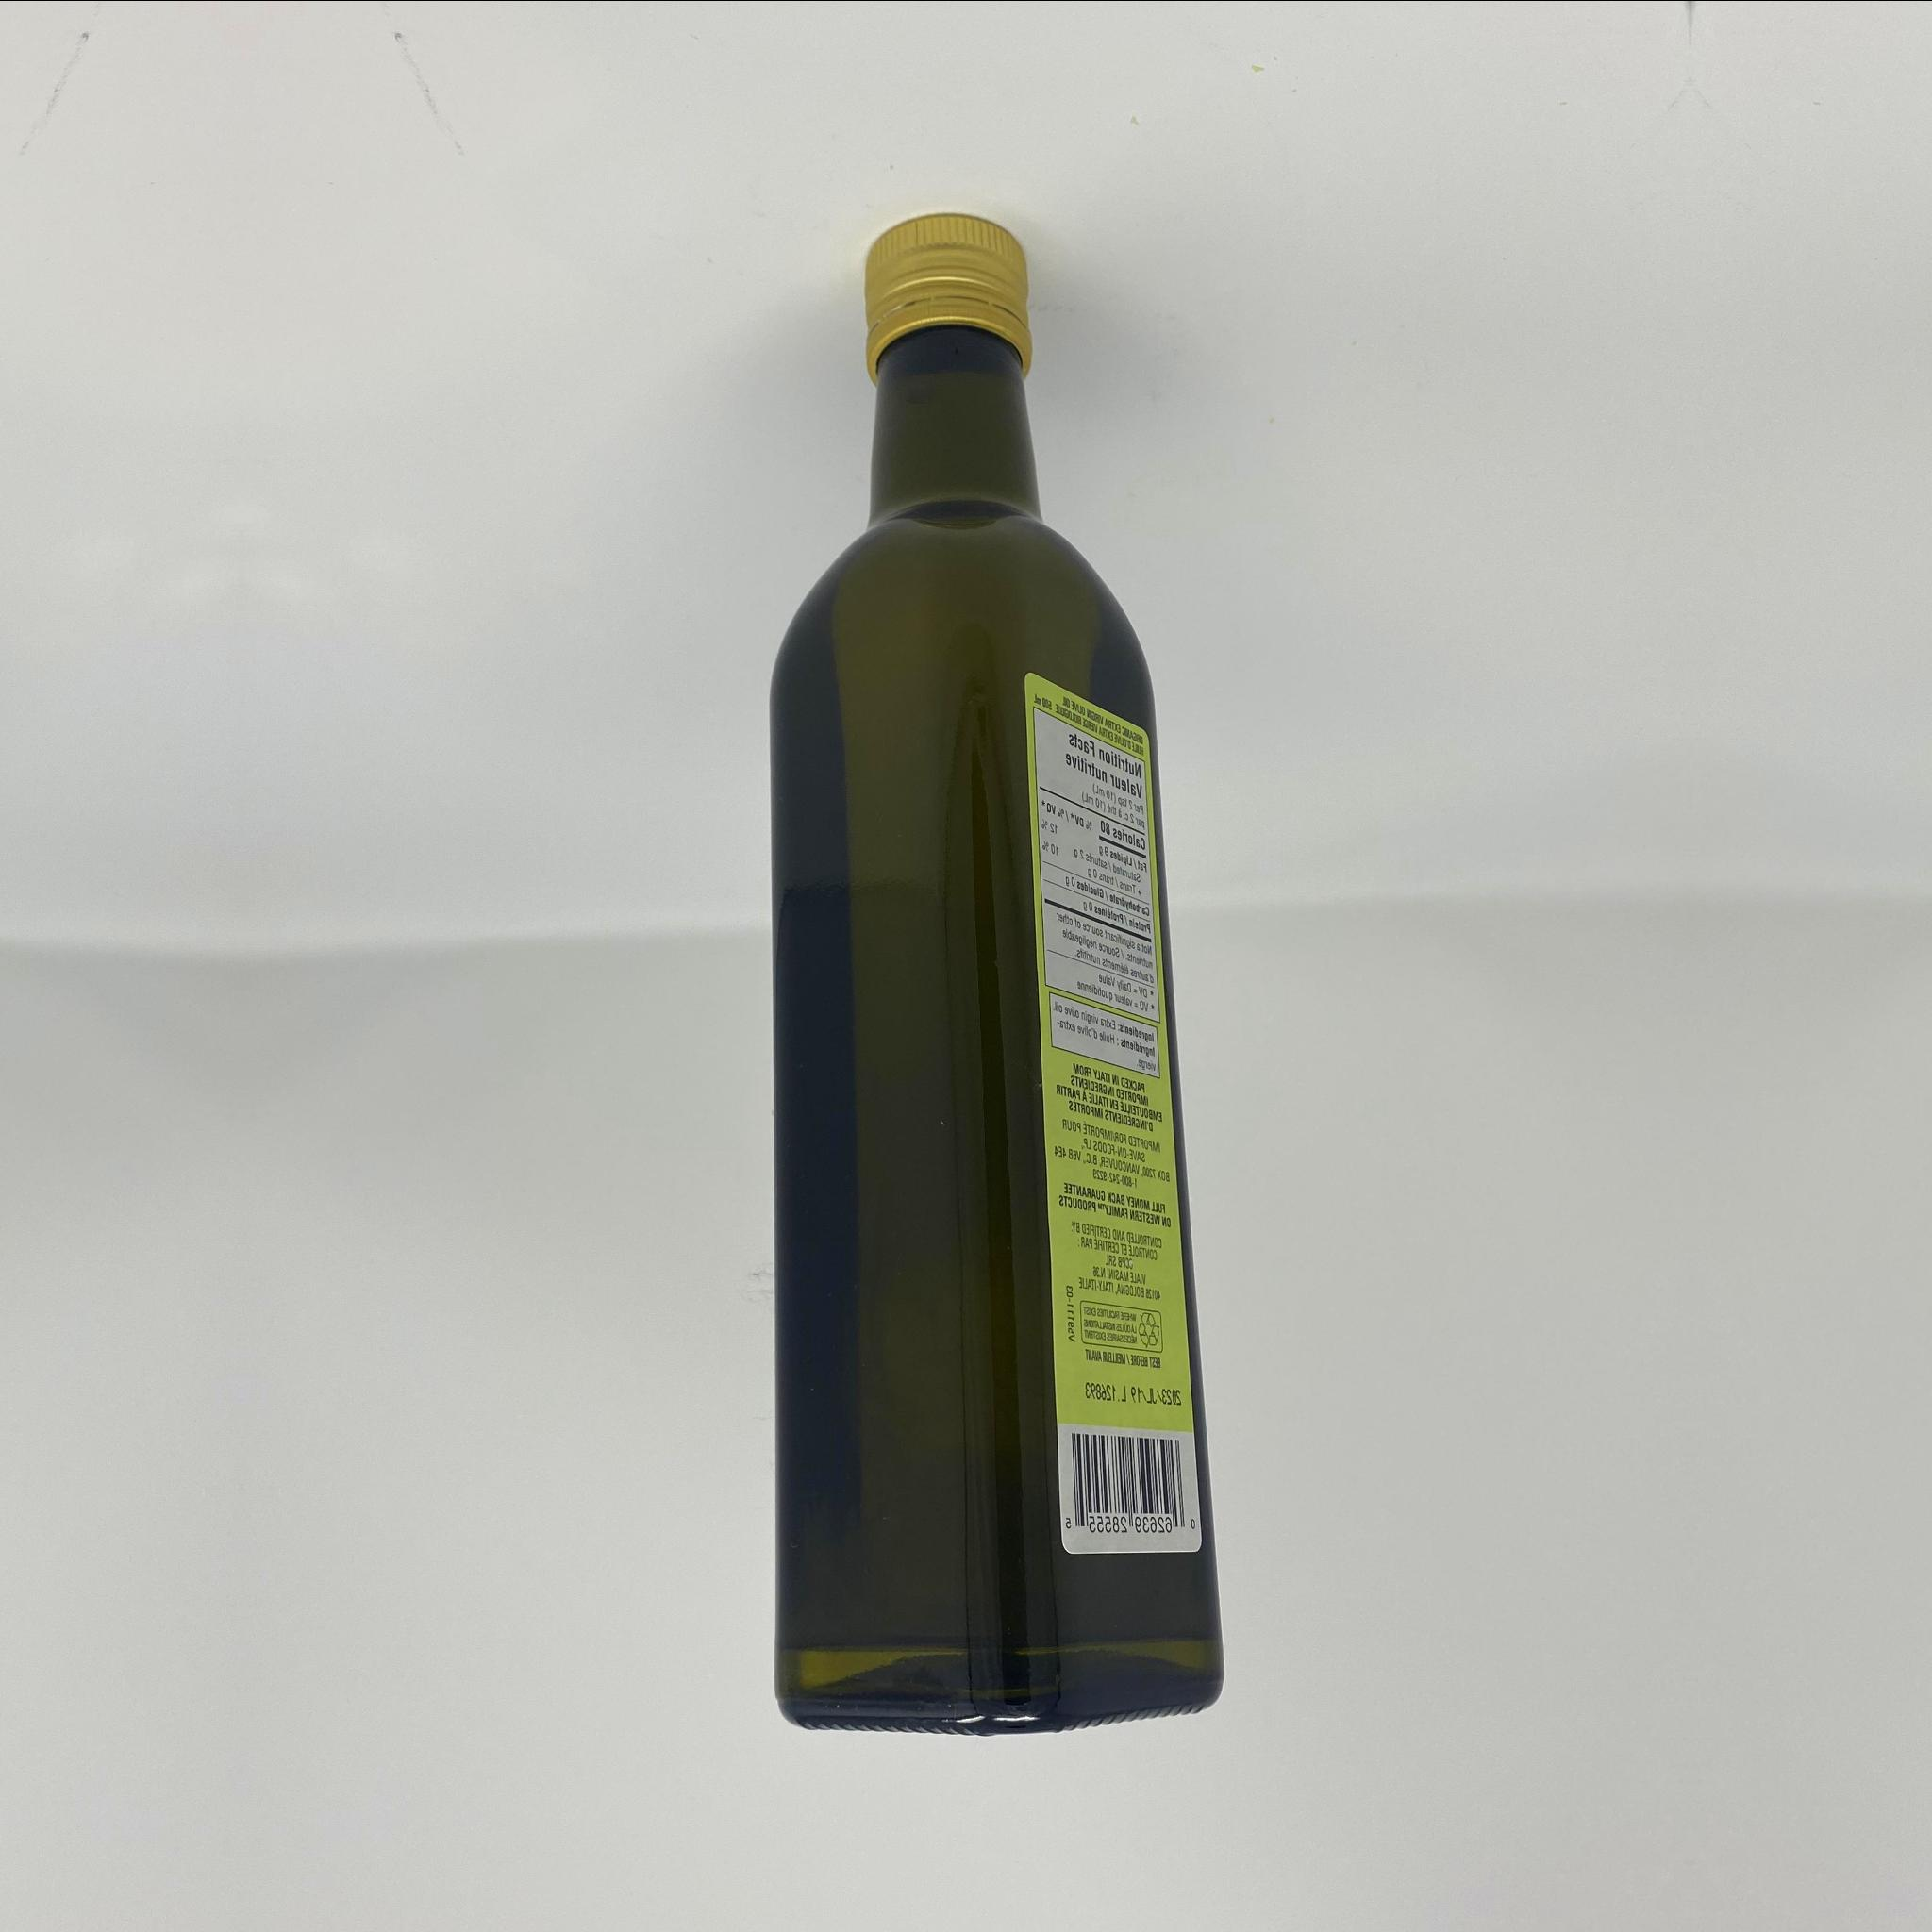glass: (770, 211, 1228, 1736)
oil: (770, 211, 1228, 1736)
sodocalcique: (770, 211, 1228, 1736)
